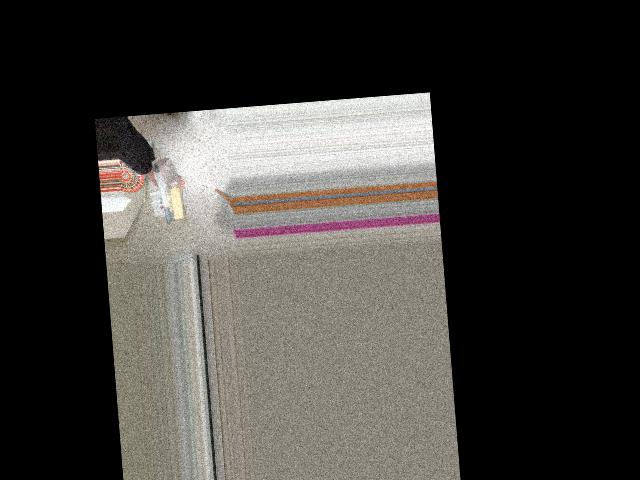cheese: (151, 158, 186, 223)
